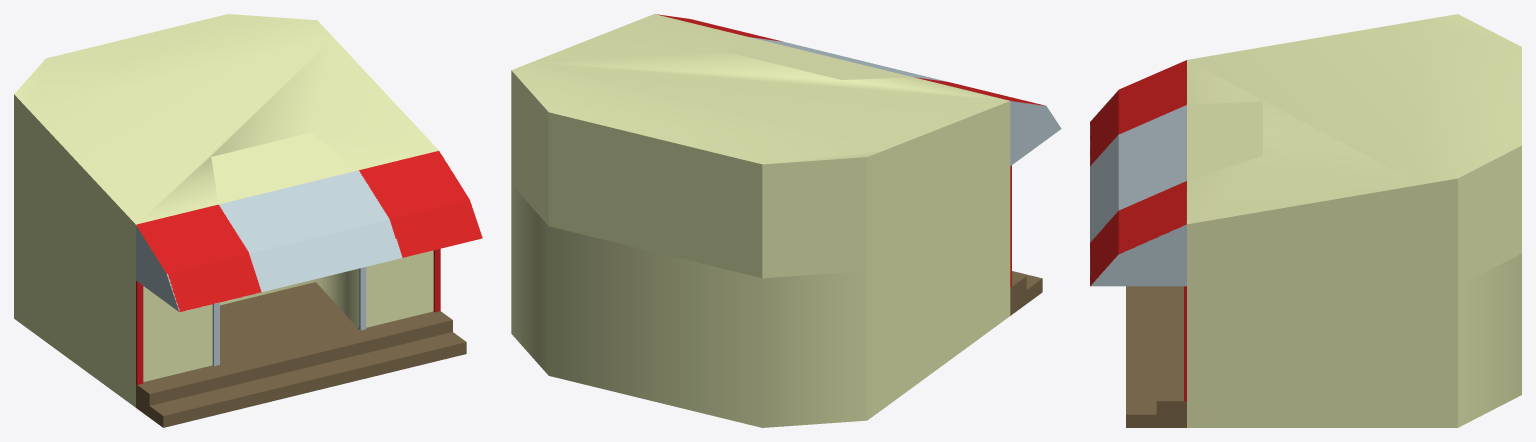
The model's file is Doceira.FBX.
The picture shows the model from 3 angles, left to right: view 1: azimuth 30°, elevation 25°; view 2: azimuth 150°, elevation 25°; view 3: azimuth 270°, elevation 25°; orthographic projection. The views are drawn at different scales.
Visible parts, largest first — view 1: Box023; view 2: Box023; view 3: Box023.
Part boxes in pixels (<box>): Box023: <box>14,14,482,427</box>; Box023: <box>511,14,1061,427</box>; Box023: <box>1090,14,1521,427</box>.
Size of the model in its own units: 1658 by 1173 by 1839.
